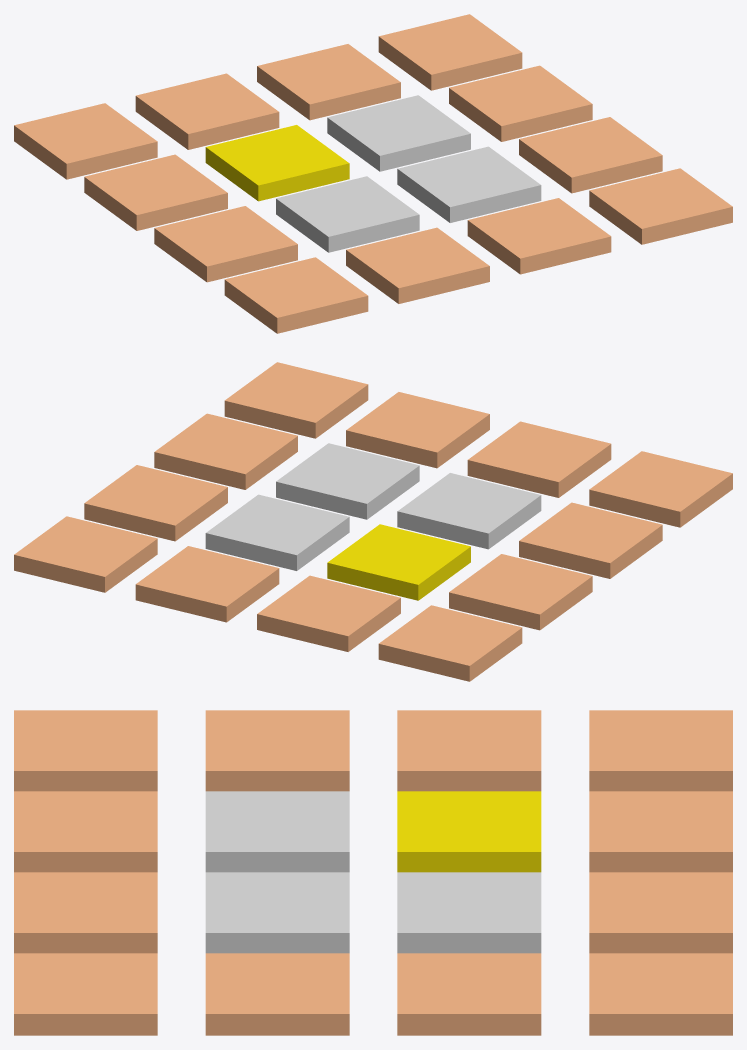
File: board.glb
3 views of the same model, one above another, from view 1: azimuth 30°, elevation 25°; view 2: azimuth 150°, elevation 25°; view 3: azimuth 270°, elevation 25° (orthographic). The views are drawn at different scales.
Visible parts, largest first — view 1: Copper_Net1_Contour0 (×3), Copper_Net1_Contour1 (×2), Copper_Net1_Contour2 (×2), Copper_Net1_Contour11, Copper_Net1_Contour9, Copper_Net1_Contour10, Copper_Net1_Contour8, Copper_Net1_Contour3, Copper_Net1_Contour6, Copper_Net1_Contour4, Copper_Net1_Contour5, Copper_Net1_Contour7; view 2: Copper_Net1_Contour0 (×3), Copper_Net1_Contour2 (×2), Copper_Net1_Contour1 (×2), Copper_Net1_Contour8, Copper_Net1_Contour3, Copper_Net1_Contour10, Copper_Net1_Contour9, Copper_Net1_Contour6, Copper_Net1_Contour4, Copper_Net1_Contour5, Copper_Net1_Contour11, Copper_Net1_Contour7; view 3: Copper_Net1_Contour0 (×3), Copper_Net1_Contour2 (×2), Copper_Net1_Contour1 (×2), Copper_Net1_Contour5, Copper_Net1_Contour7, Copper_Net1_Contour3, Copper_Net1_Contour11, Copper_Net1_Contour6, Copper_Net1_Contour4, Copper_Net1_Contour10, Copper_Net1_Contour9, Copper_Net1_Contour8.
Boxes of the visible parts, left/top/right/bottom form: Copper_Net1_Contour0 (×3): left=205, top=125, right=419, bottom=333; Copper_Net1_Contour1 (×2): left=346, top=146, right=541, bottom=303; Copper_Net1_Contour2 (×2): left=327, top=95, right=611, bottom=274; Copper_Net1_Contour11: left=378, top=14, right=522, bottom=90; Copper_Net1_Contour9: left=135, top=73, right=279, bottom=149; Copper_Net1_Contour10: left=257, top=44, right=400, bottom=120; Copper_Net1_Contour8: left=14, top=103, right=157, bottom=179; Copper_Net1_Contour3: left=589, top=168, right=732, bottom=244; Copper_Net1_Contour6: left=84, top=154, right=227, bottom=230; Copper_Net1_Contour4: left=154, top=206, right=297, bottom=282; Copper_Net1_Contour5: left=519, top=117, right=662, bottom=193; Copper_Net1_Contour7: left=449, top=65, right=592, bottom=141; Copper_Net1_Contour0 (×3): left=327, top=451, right=732, bottom=600; Copper_Net1_Contour2 (×2): left=205, top=392, right=489, bottom=570; Copper_Net1_Contour1 (×2): left=276, top=421, right=611, bottom=519; Copper_Net1_Contour8: left=378, top=605, right=522, bottom=681; Copper_Net1_Contour3: left=224, top=362, right=368, bottom=438; Copper_Net1_Contour10: left=135, top=546, right=279, bottom=622; Copper_Net1_Contour9: left=257, top=575, right=400, bottom=651; Copper_Net1_Contour6: left=449, top=554, right=592, bottom=630; Copper_Net1_Contour4: left=519, top=502, right=662, bottom=578; Copper_Net1_Contour5: left=154, top=413, right=297, bottom=489; Copper_Net1_Contour11: left=14, top=516, right=157, bottom=592; Copper_Net1_Contour7: left=84, top=465, right=227, bottom=541; Copper_Net1_Contour0 (×3): left=14, top=710, right=541, bottom=872; Copper_Net1_Contour2 (×2): left=14, top=872, right=541, bottom=953; Copper_Net1_Contour1 (×2): left=14, top=791, right=349, bottom=953; Copper_Net1_Contour5: left=205, top=953, right=349, bottom=1035; Copper_Net1_Contour7: left=397, top=953, right=541, bottom=1035; Copper_Net1_Contour3: left=14, top=953, right=157, bottom=1035; Copper_Net1_Contour11: left=589, top=953, right=732, bottom=1035; Copper_Net1_Contour6: left=397, top=710, right=541, bottom=791; Copper_Net1_Contour4: left=205, top=710, right=349, bottom=791; Copper_Net1_Contour10: left=589, top=872, right=732, bottom=953; Copper_Net1_Contour9: left=589, top=791, right=732, bottom=872; Copper_Net1_Contour8: left=589, top=710, right=732, bottom=791.
Size of the model in its own units: 3e-05 by 1e-06 by 3e-05.
